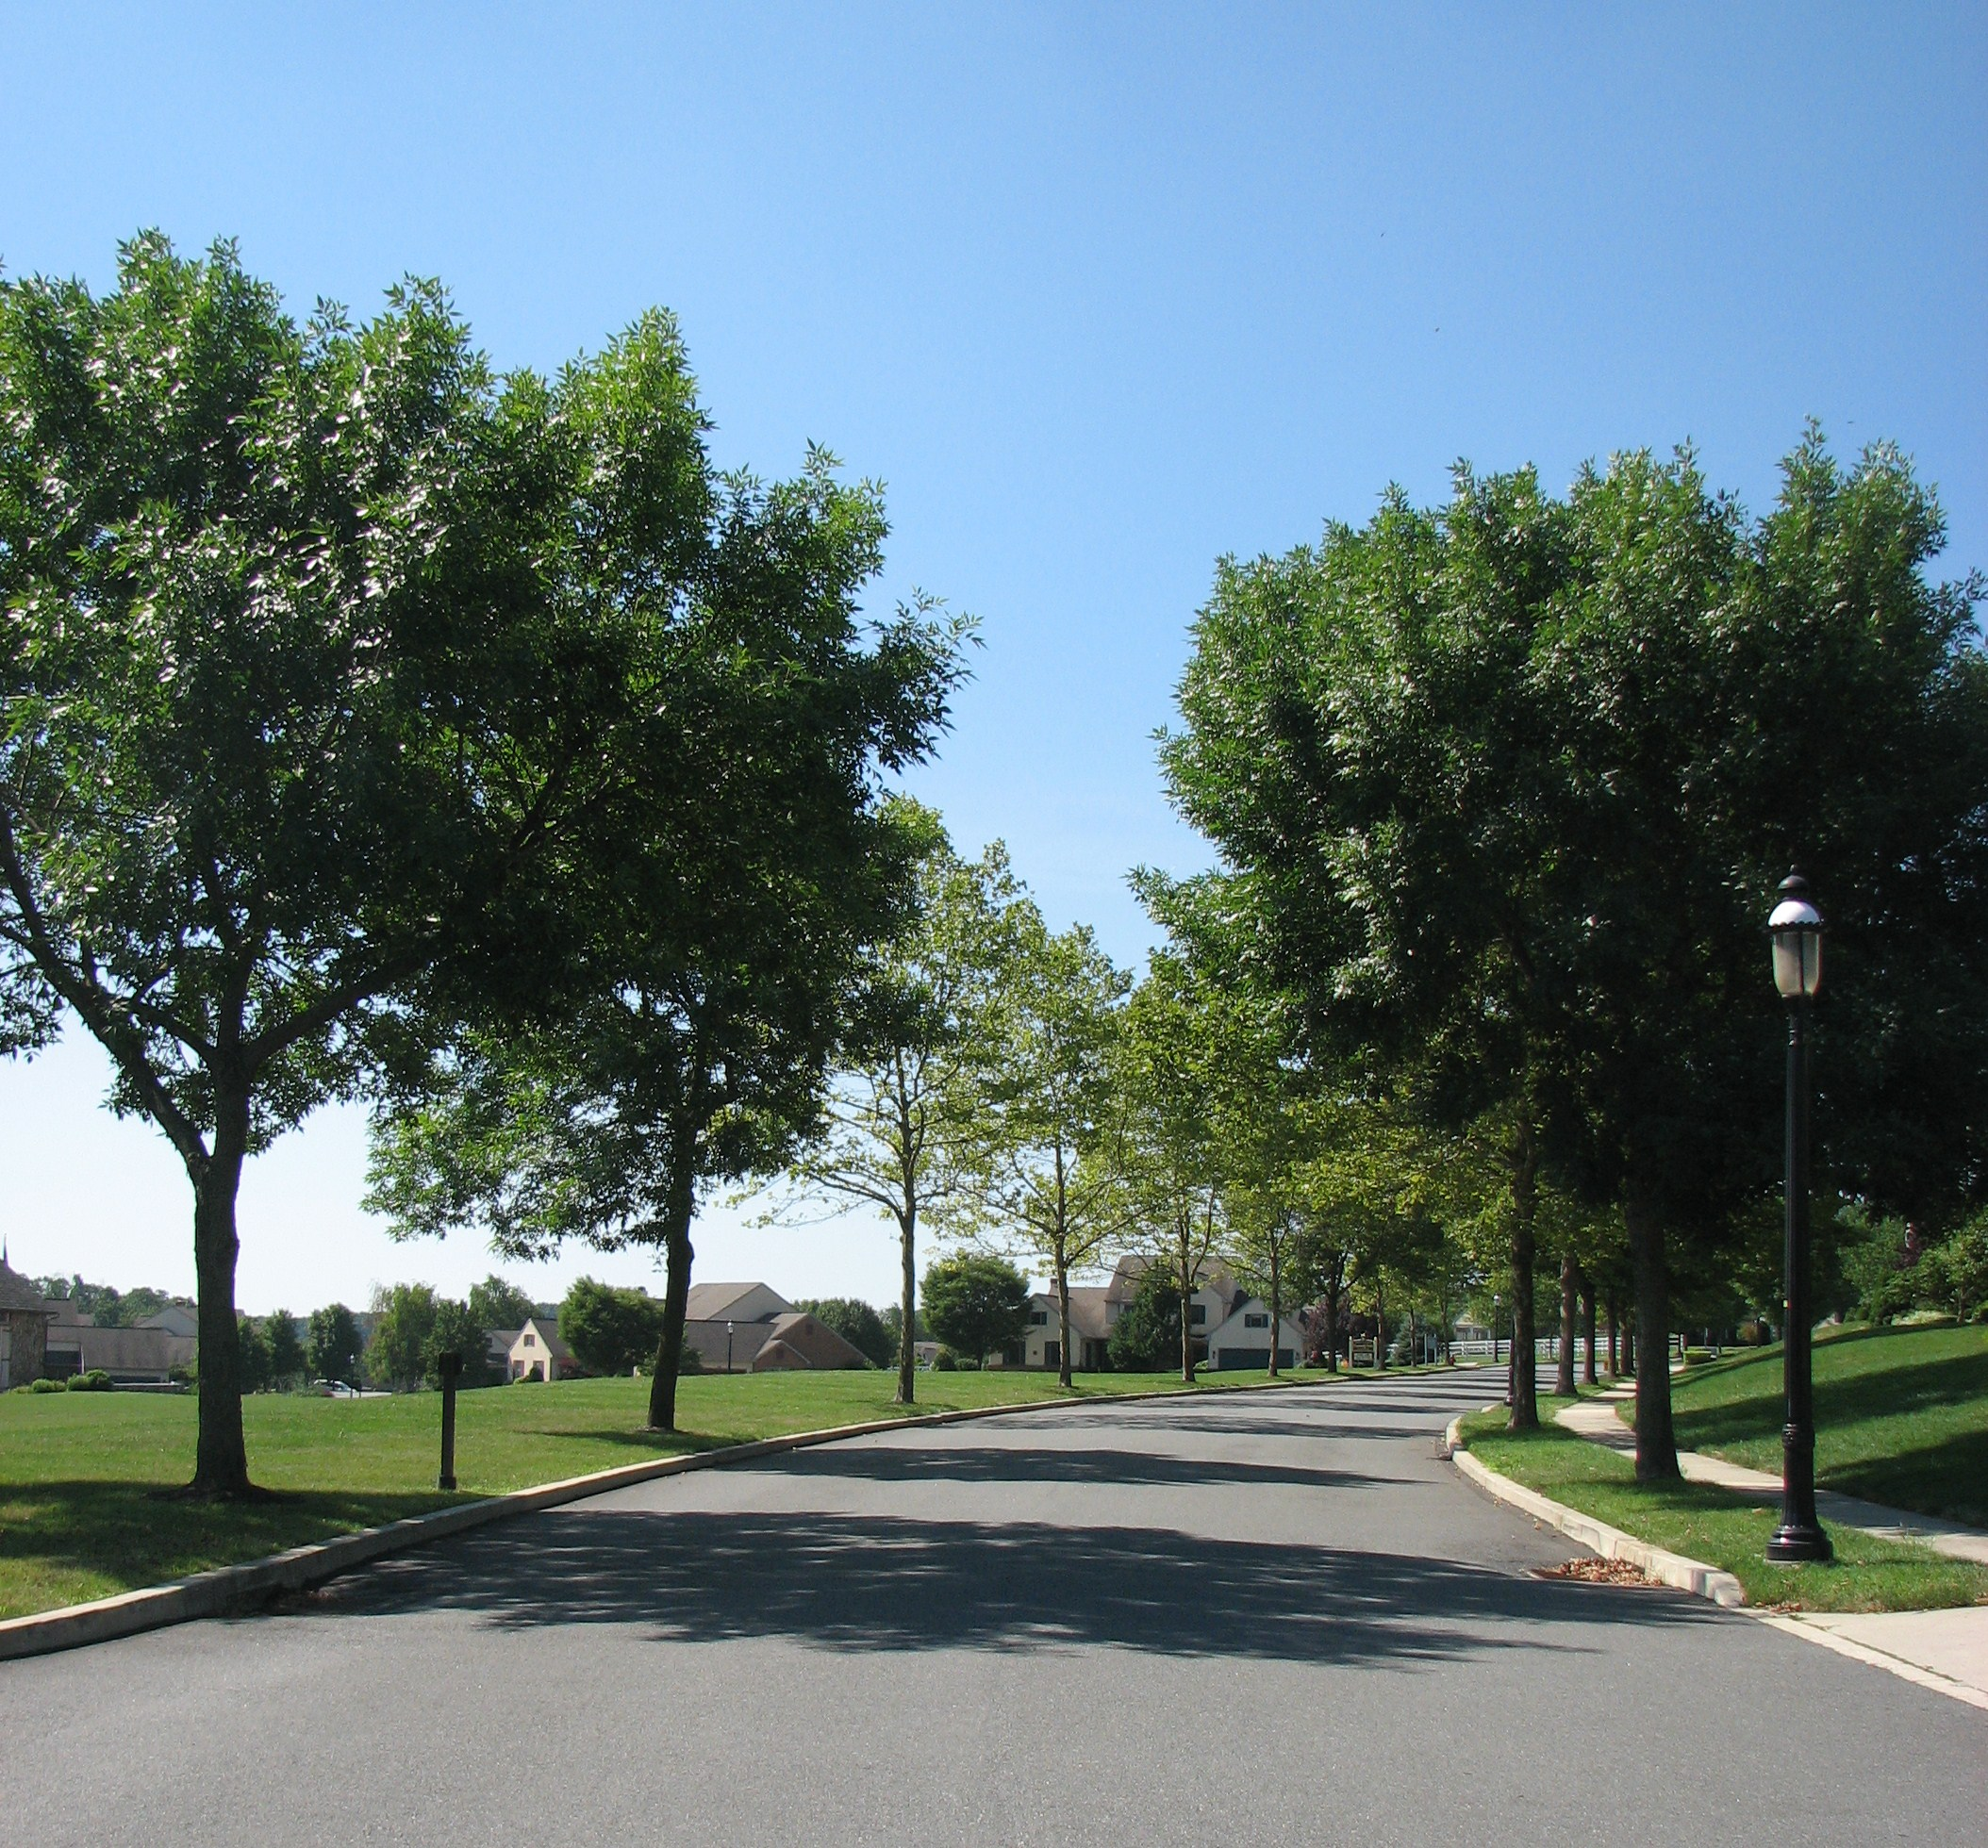tree: (2, 214, 989, 1506), (1124, 403, 1988, 1490)
